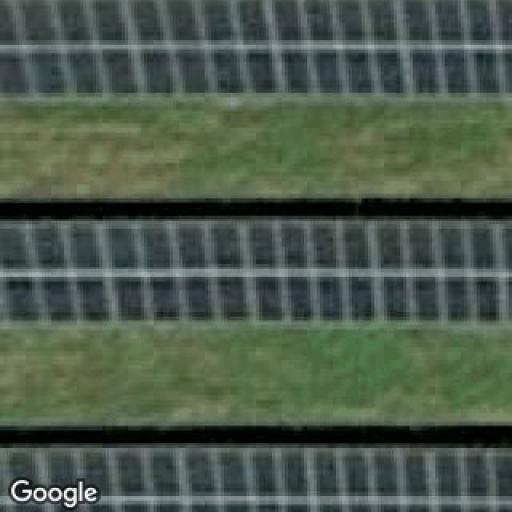solar-panel: (0, 221, 512, 323), (0, 0, 512, 94), (0, 449, 512, 512)
